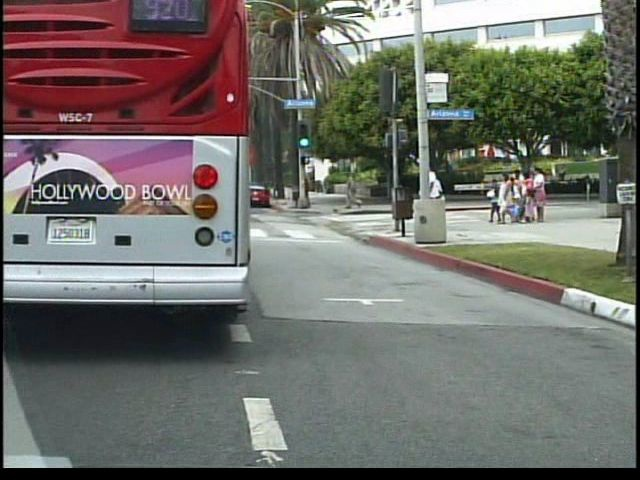person: (416, 161, 449, 238), (426, 170, 449, 233), (346, 169, 366, 212)
